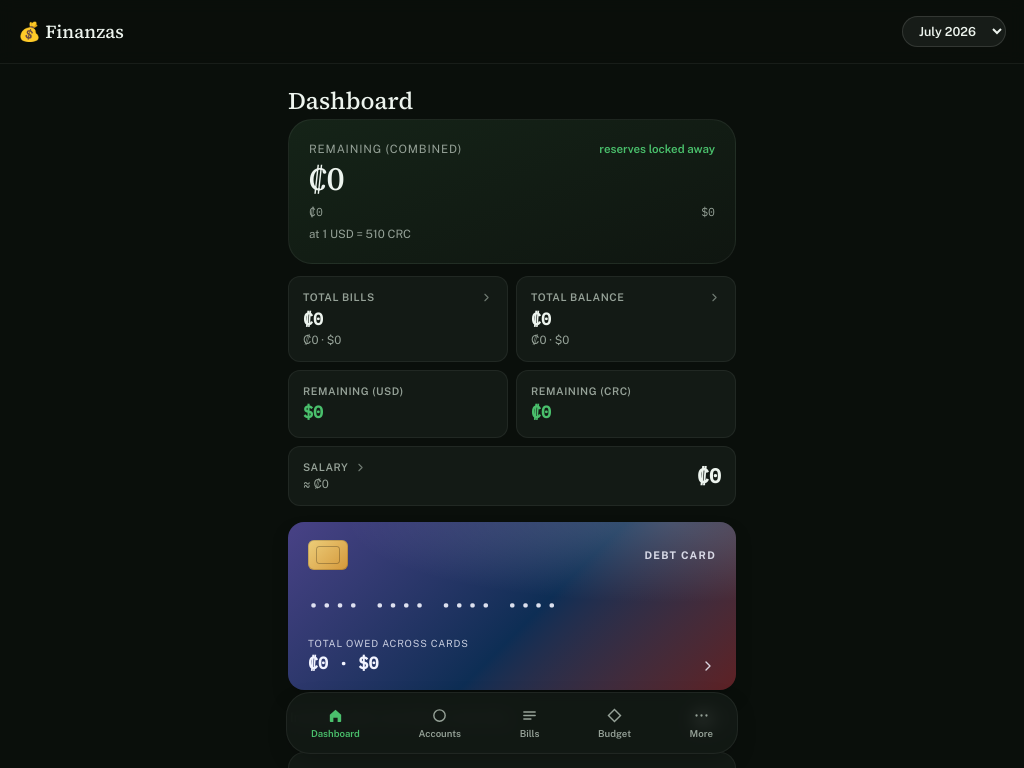
it: Imaginary Money — empty account › shows the empty message
Click the button "More" at (701, 723), box [684,703,719,743]
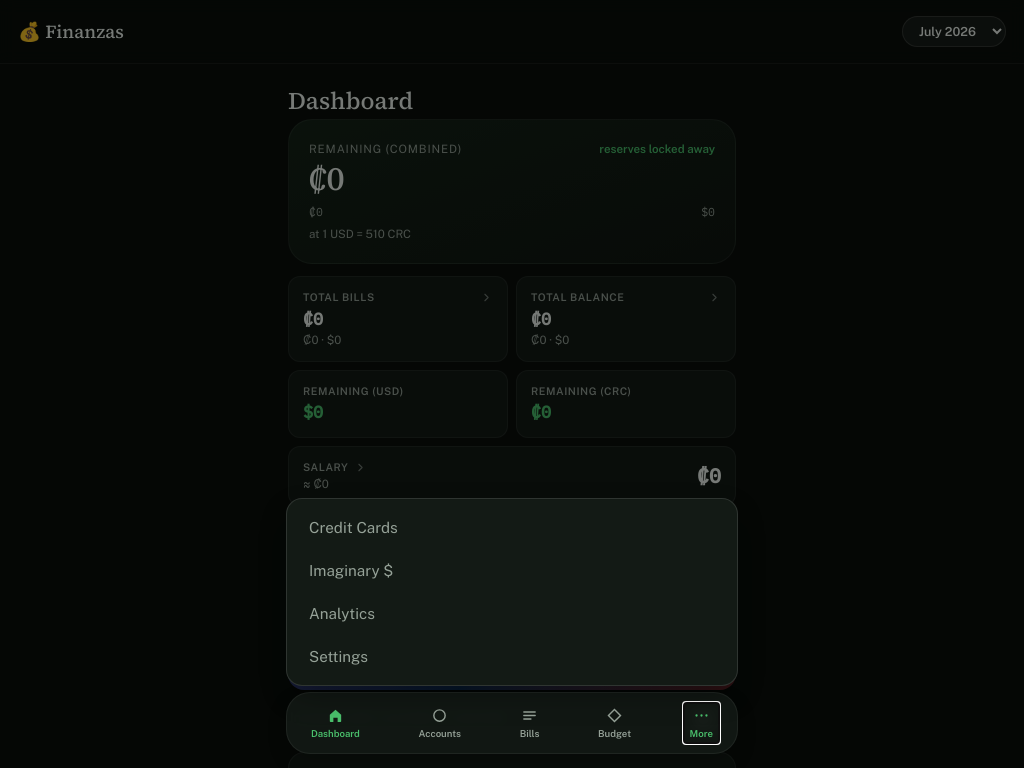
Click the button "Imaginary $" at (351, 570), box [295,550,729,591]
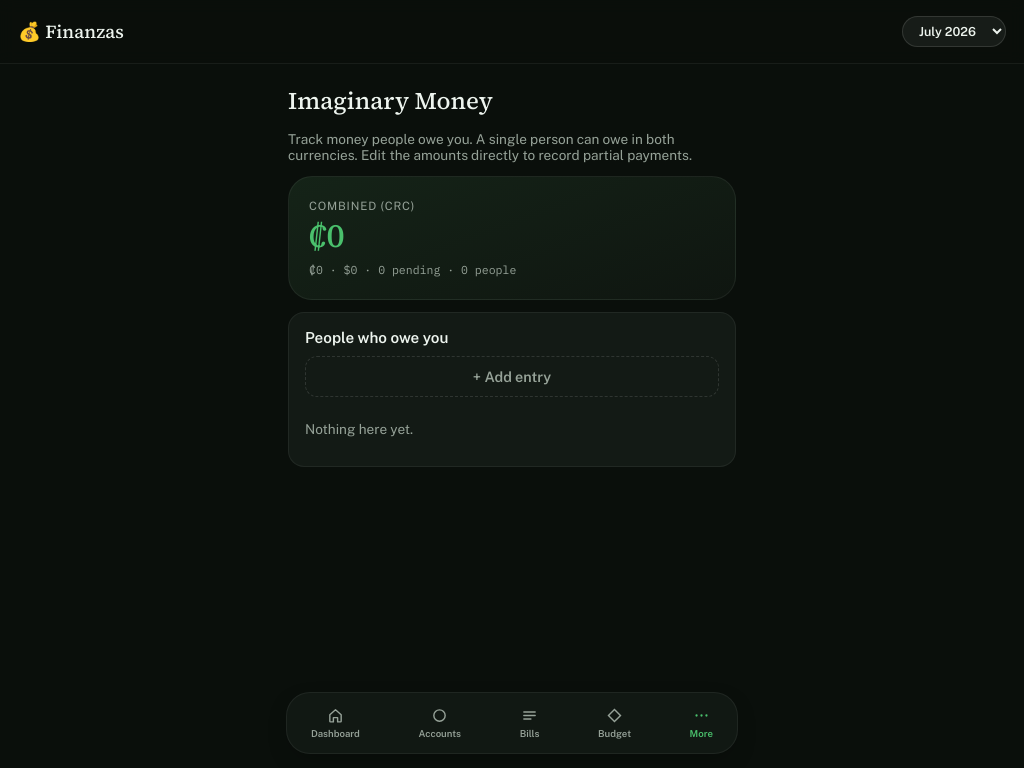
Expected: the text "Nothing here yet." is shown, [305,421,413,437]
